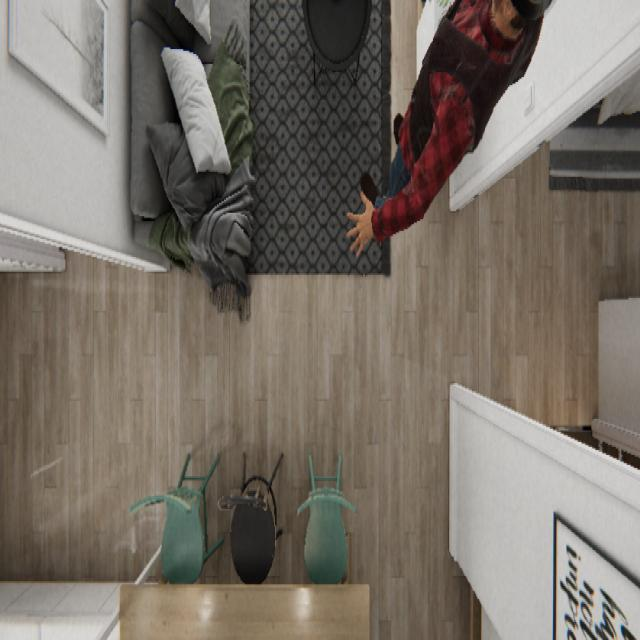Human: (345, 0, 554, 259)
